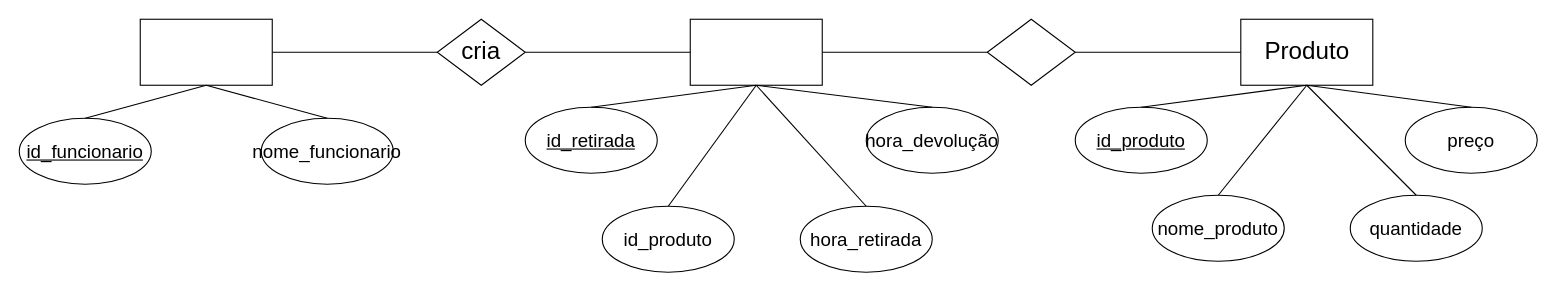
Image size: 1557x292. Some labels were removed from this diagram. Each missing label, with the centre of its shape:
Funcionário: point (205, 51)
libera: point (1030, 51)
Retirada: point (755, 51)
